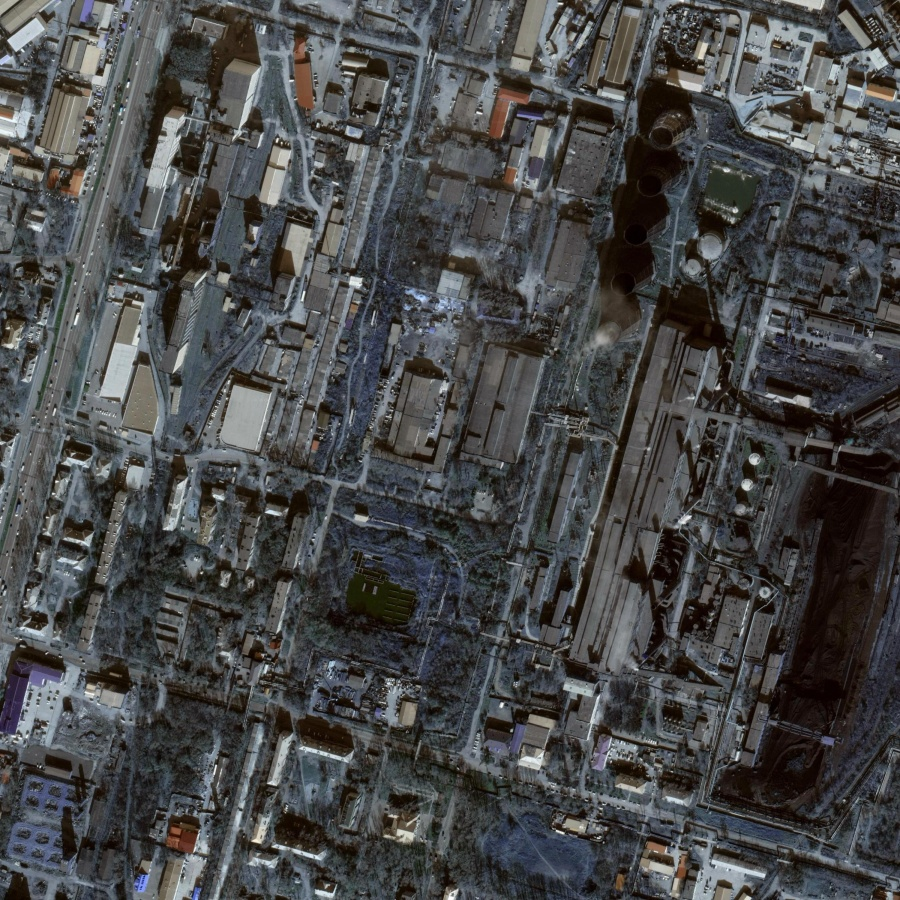PowerPlant: (565, 61, 735, 400)
